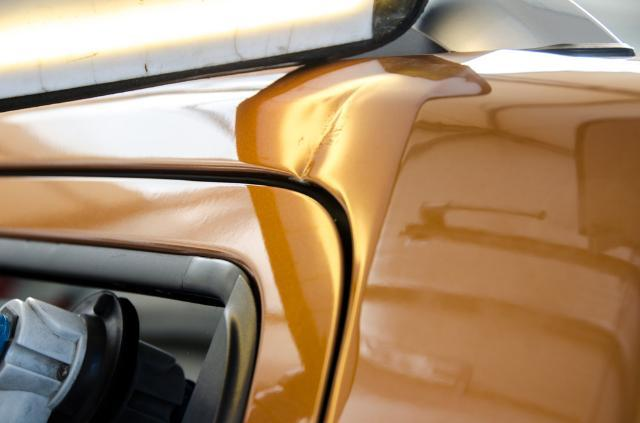dent: (287, 80, 372, 182)
